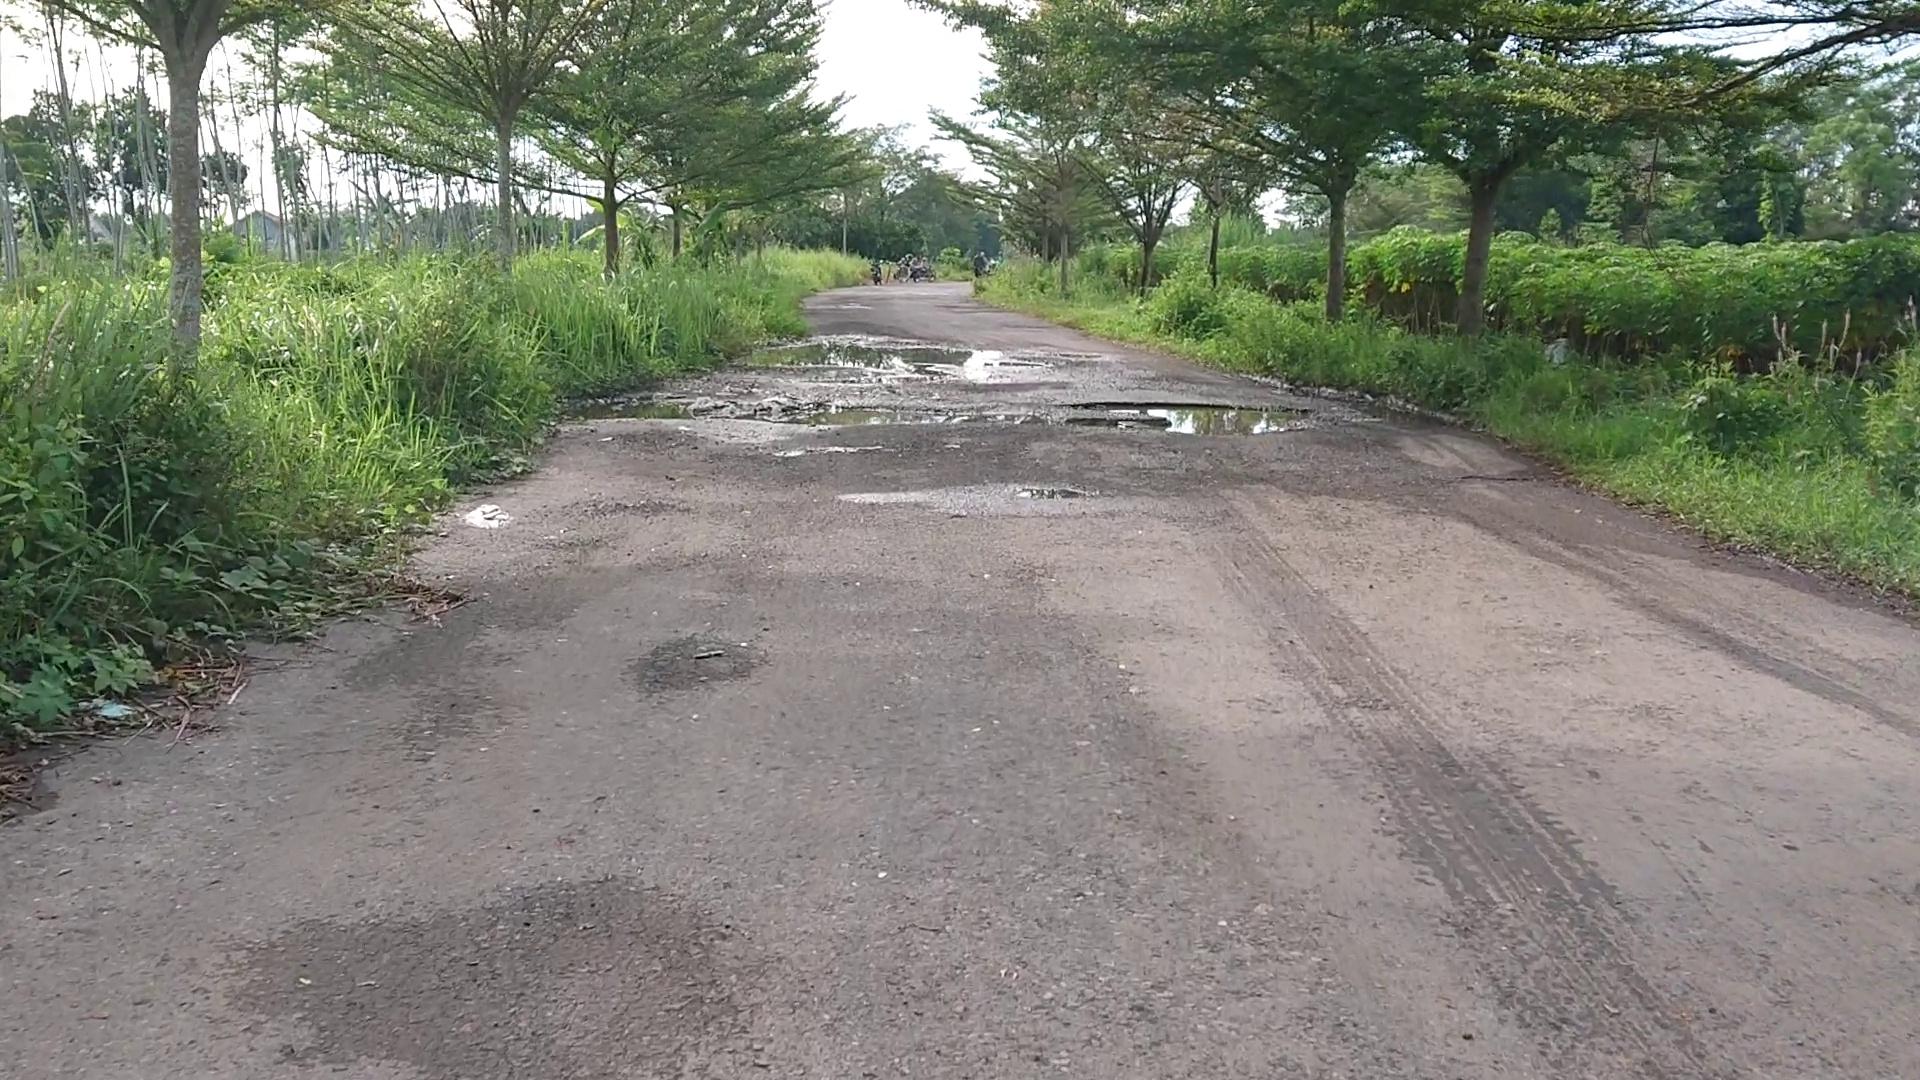Berlubang: (603, 397, 1338, 448), (745, 338, 1075, 377)
